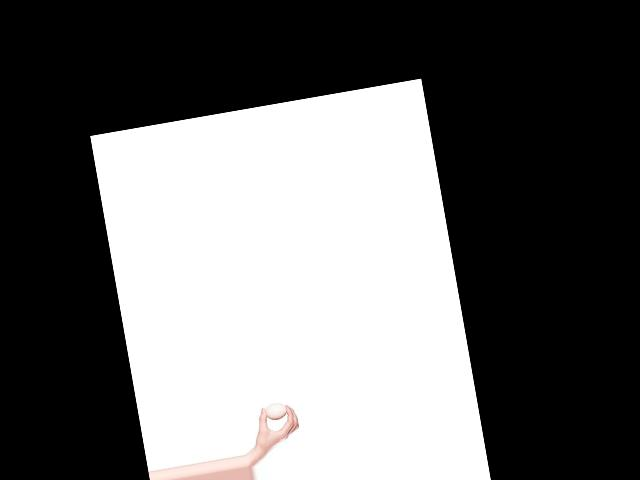egg: (264, 401, 287, 421)
